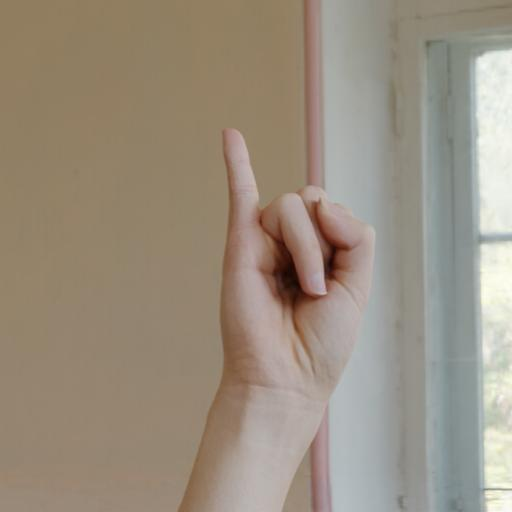I: (215, 126, 384, 402)
